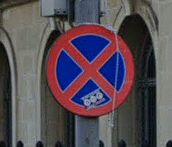oprirea_interzisa: (45, 24, 135, 117)
